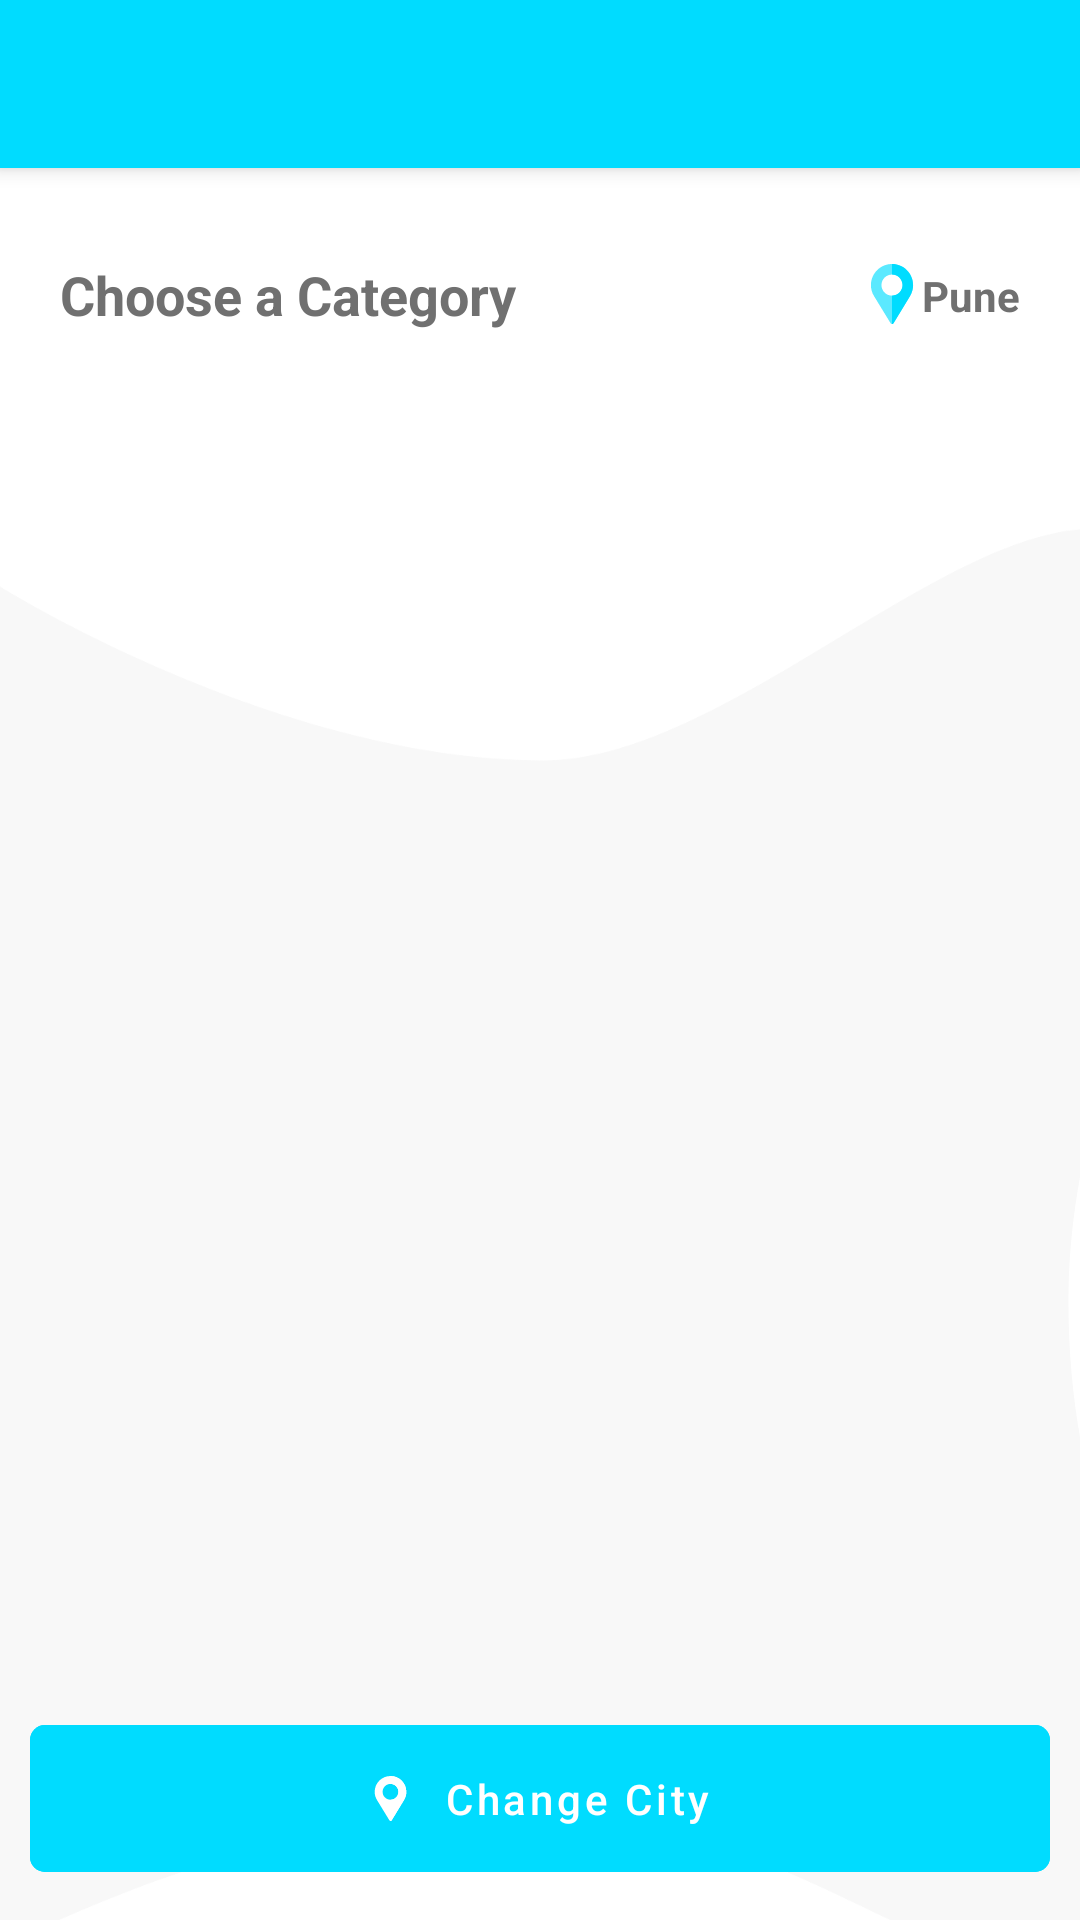

Point at icon controls on the screen. Image size 1080 × 1920, points as [x,y].
city pin: [892,294]
